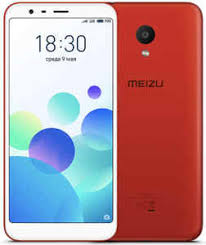meizu: (1, 1, 206, 243), (2, 1, 117, 240), (112, 1, 204, 240)
